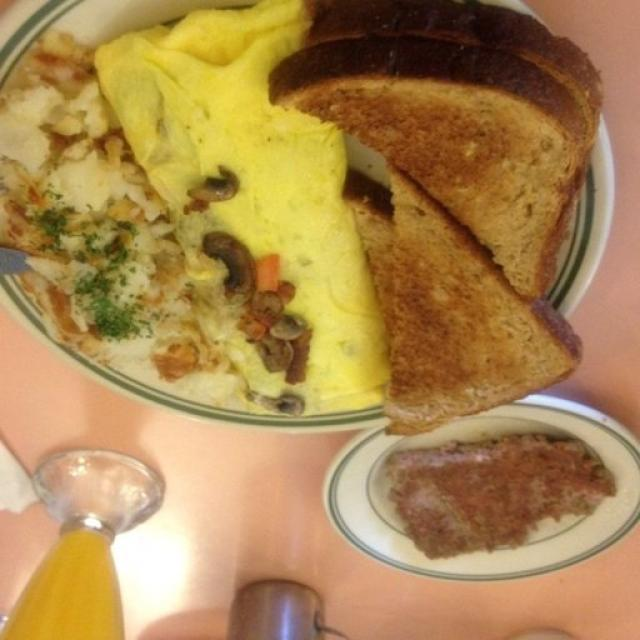telur_ayam_dadar: (90, 2, 398, 417)
